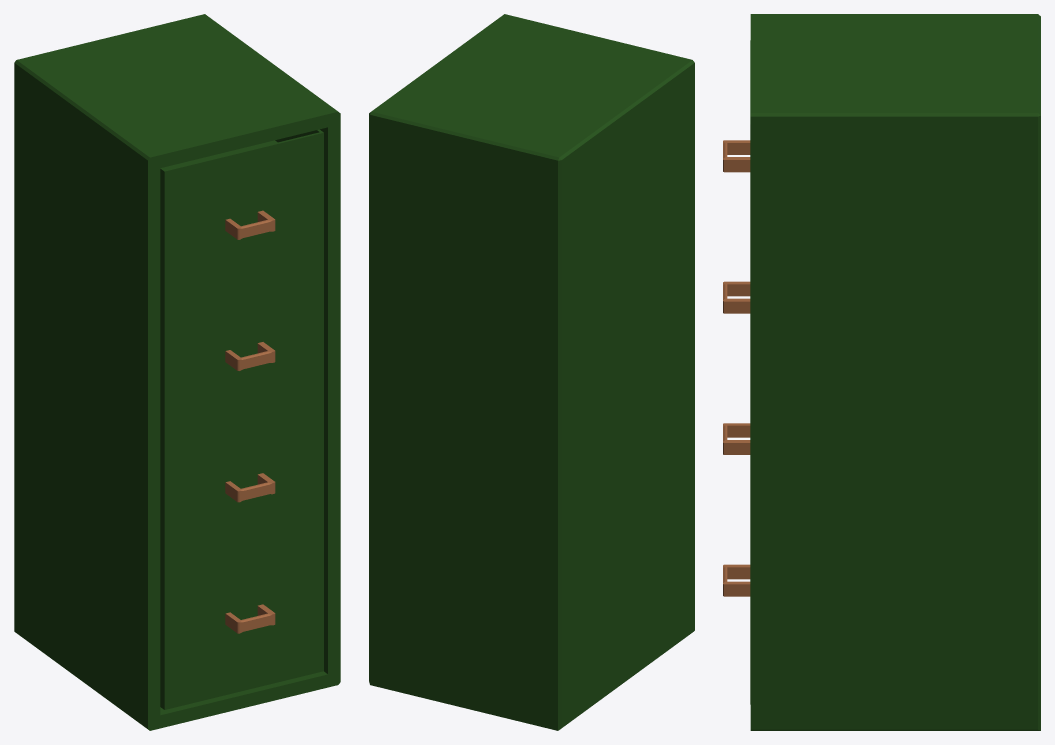
The model's file is fichero.fbx.
3 views of the same model, side by side, from view 1: azimuth 30°, elevation 25°; view 2: azimuth 150°, elevation 25°; view 3: azimuth 270°, elevation 25° (orthographic). The views are drawn at different scales.
Visible parts, largest first — view 1: fichero, manijas_fichero; view 2: fichero; view 3: fichero, manijas_fichero.
Boxes of the visible parts, x1,y1,x2,y2 form: fichero: [14, 14, 340, 730]; manijas_fichero: [225, 210, 275, 633]; fichero: [369, 14, 694, 730]; fichero: [750, 14, 1040, 730]; manijas_fichero: [723, 140, 750, 596].
Bounding box in the file's own units: 47.5 × 135 × 62.93.
